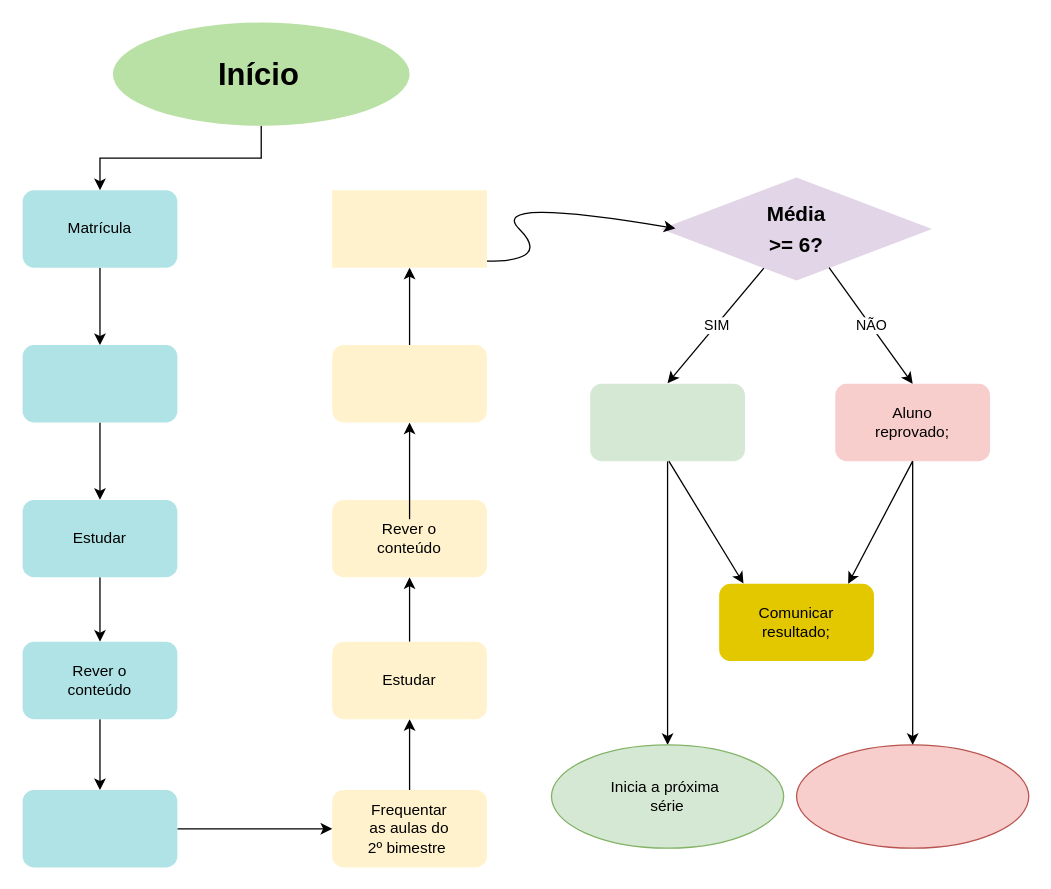
Image size: 1051x889. Some labels were removed from this diagram. The shapes that lost their labels are listed below. From the top down, each one's centre as x and y in pixels, then its label:
point (409, 228): Somar as notas dos dois bimestres
point (99, 383): Frequentar as aulas
point (409, 383): Fazer a prova do segundo bimestre
point (667, 422): Aluno aprovado;
point (912, 796): Repete a mesma série
point (99, 828): Fazer a prova do primeiro bimestre
